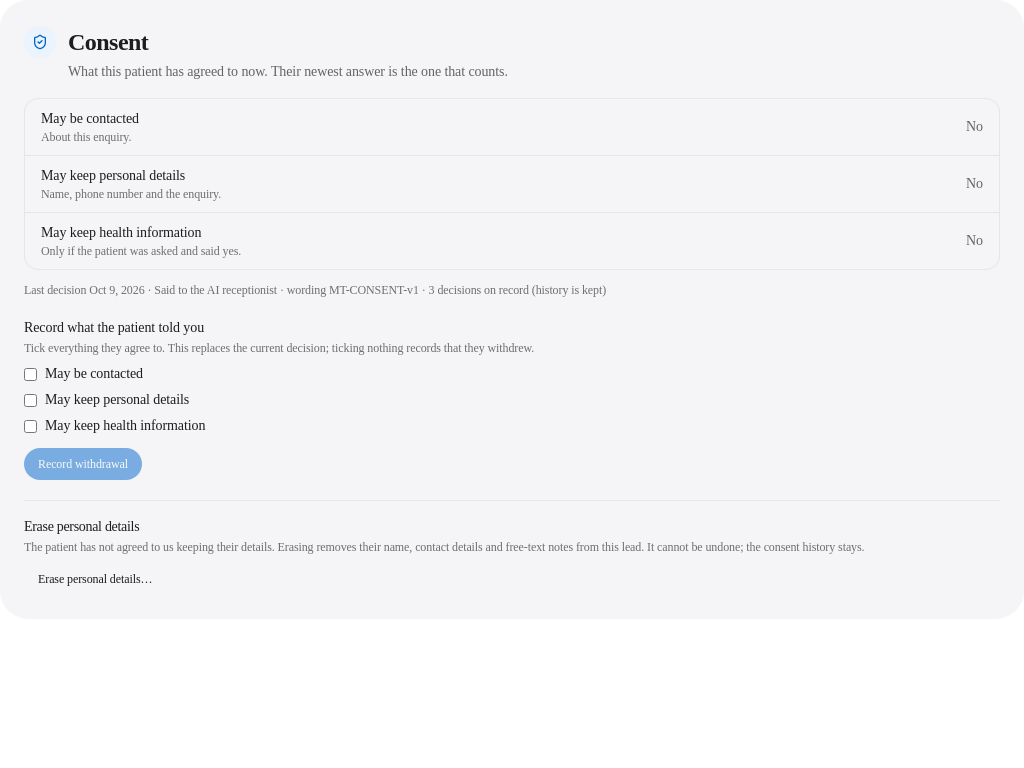
Test: LeadConsentPanel › shows the backend's refusal instead of claiming success
Click the button "Erase personal details…": (95, 579) left=24, top=563, right=166, bottom=595
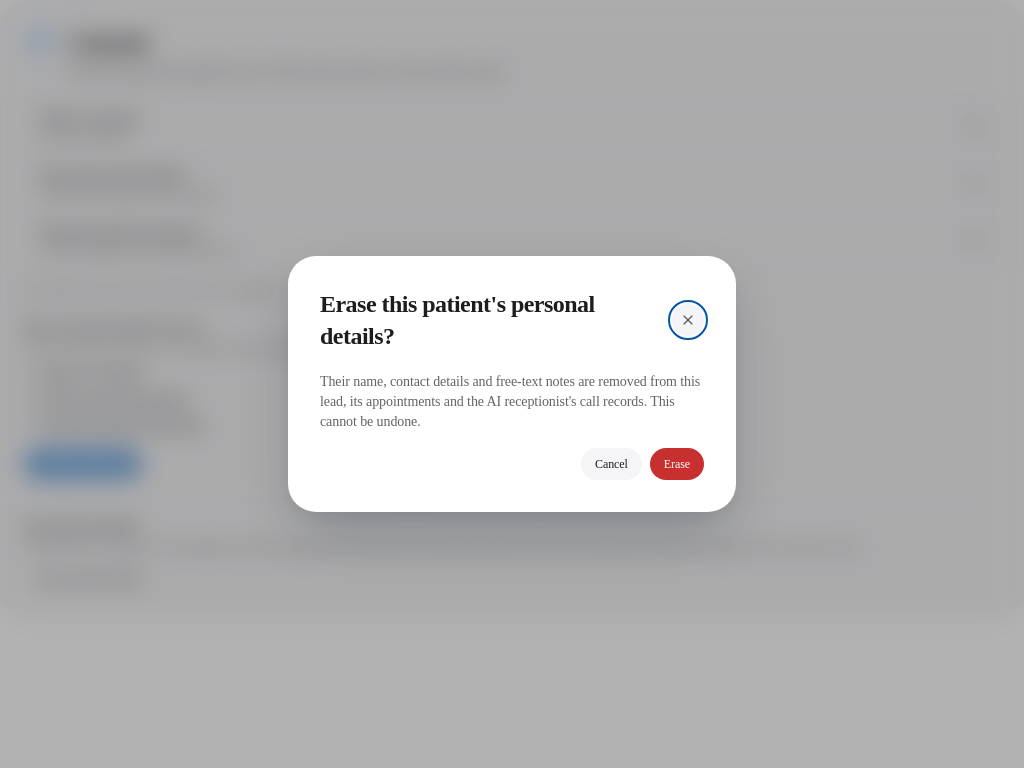
Click the button "Erase": (677, 464) left=650, top=448, right=704, bottom=480
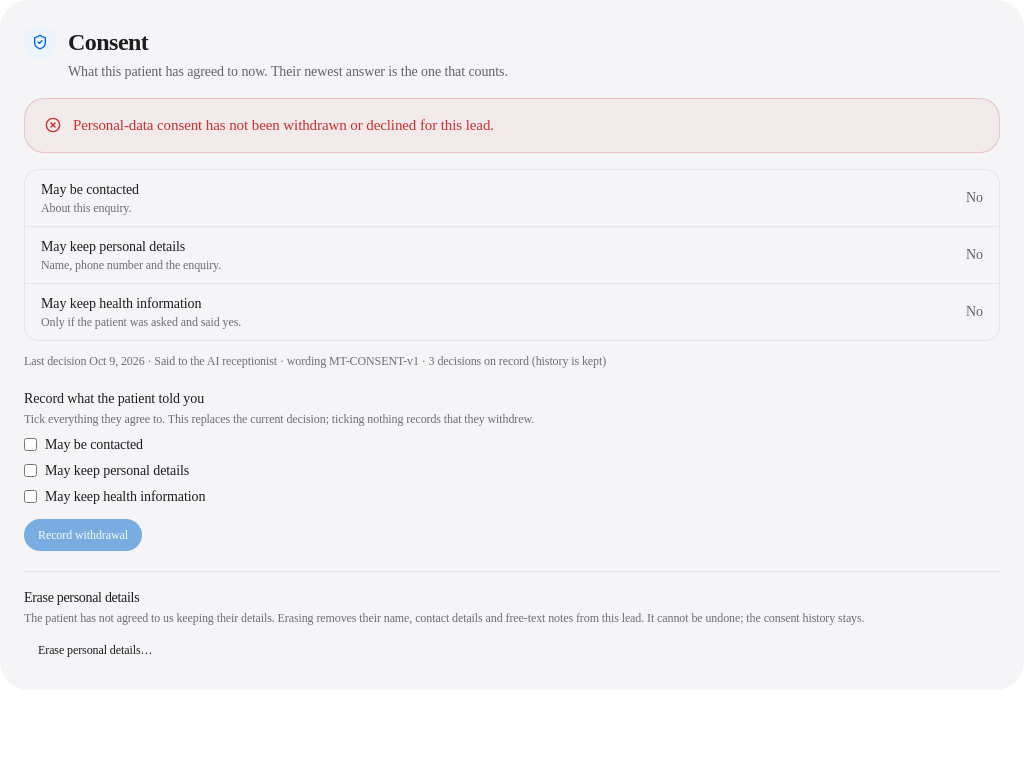
Check: the text "has not been withdrawn or declined" is shown, box left=73, top=117, right=494, bottom=133
